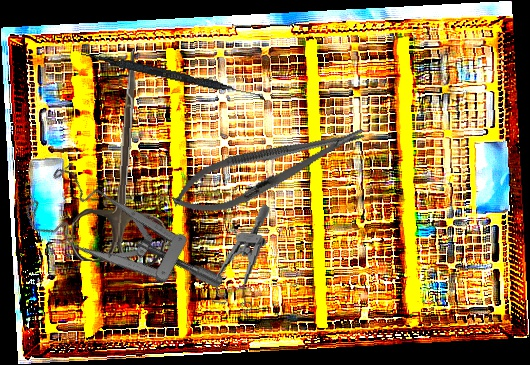Iris Scissors: (70, 46, 176, 266)
Needle Holder: (165, 109, 373, 228)
Spatula Surgical: (78, 50, 268, 101)
Speculum: (14, 133, 227, 354), (210, 200, 271, 319)
